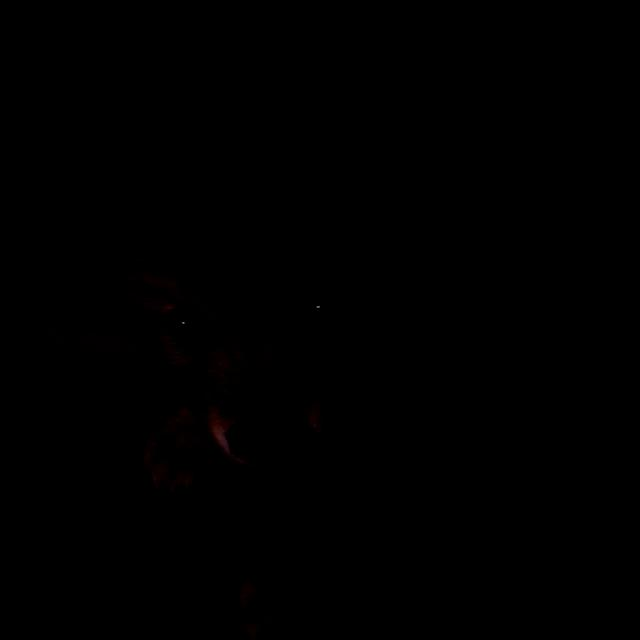Dog: (3, 43, 550, 634)
